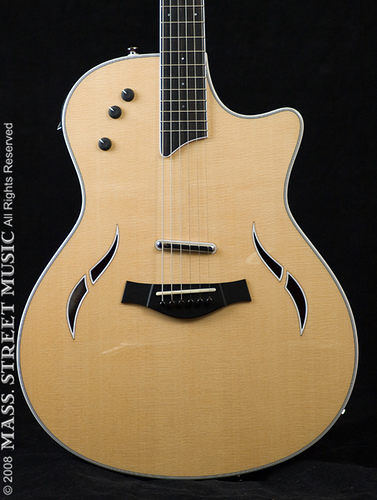guitar: (12, 1, 358, 481)
